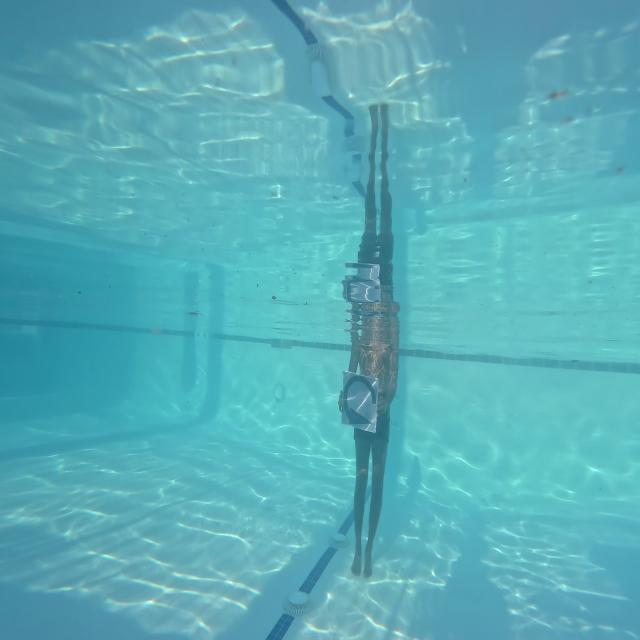blue_side: (339, 368, 377, 431)
